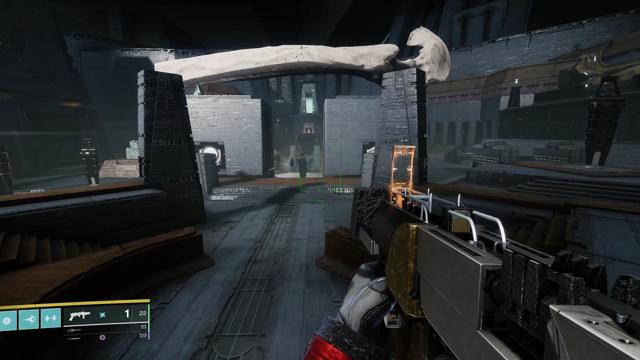pyramid: (367, 146, 375, 153)
traveler: (199, 145, 221, 167)
